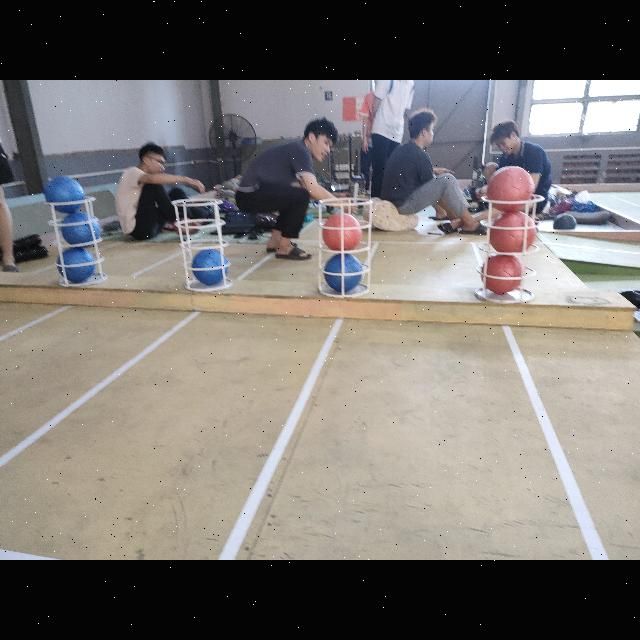B: (43, 176, 87, 212), (190, 248, 230, 286), (324, 252, 364, 290), (60, 210, 100, 246), (57, 247, 95, 283)
R: (487, 164, 535, 212), (488, 211, 538, 255), (318, 212, 362, 252), (481, 256, 523, 294)
